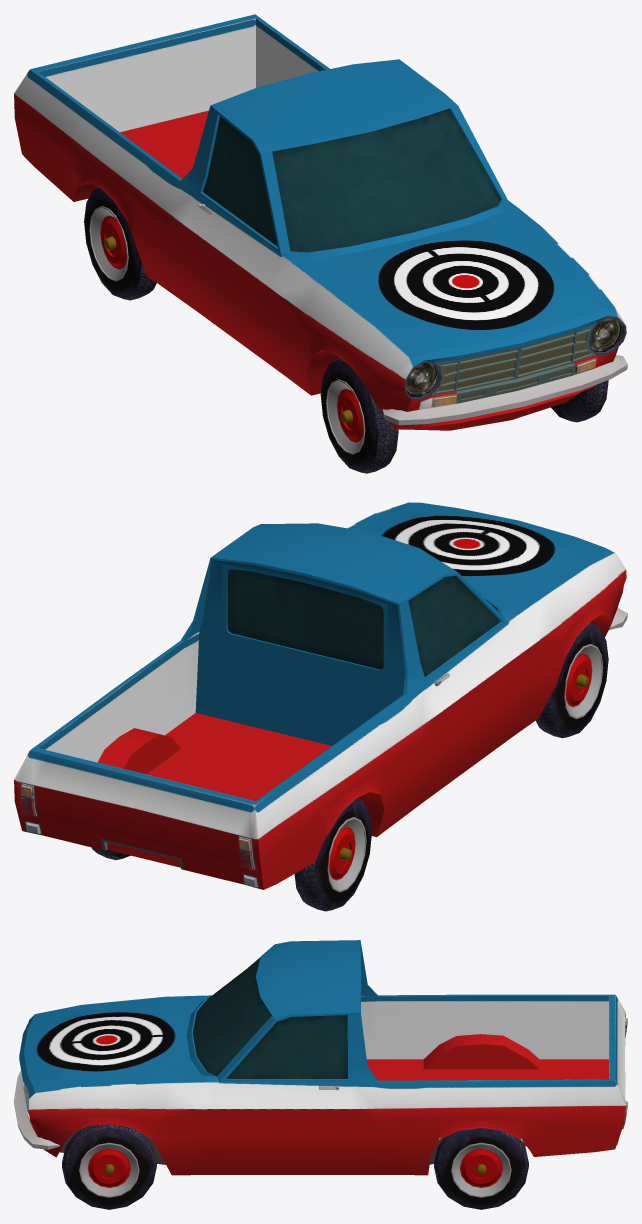
The model's file is car1 (8).fbx.
The picture shows the model from 3 angles, top to bottom: view 1: azimuth 30°, elevation 25°; view 2: azimuth 150°, elevation 25°; view 3: azimuth 270°, elevation 25°; orthographic projection. The views are drawn at different scales.
Visible parts, largest first — view 1: car body.001, tyre.006, tyre.005, tyre.007; view 2: car body.001, tyre.005, tyre.006; view 3: car body.001, tyre.007, tyre.004.
Boxes of the visible parts, bbox=[...] form: car body.001: bbox=[14, 14, 627, 430]; tyre.006: bbox=[320, 357, 398, 473]; tyre.005: bbox=[84, 187, 156, 300]; tyre.007: bbox=[551, 380, 608, 422]; car body.001: bbox=[14, 502, 627, 889]; tyre.005: bbox=[294, 797, 371, 911]; tyre.006: bbox=[535, 622, 608, 738]; car body.001: bbox=[14, 940, 627, 1175]; tyre.007: bbox=[62, 1124, 156, 1209]; tyre.004: bbox=[434, 1128, 528, 1209].
Bounding box in the file's own units: 132 × 123 × 347.
Materials: 1 (1 with a texture image).
